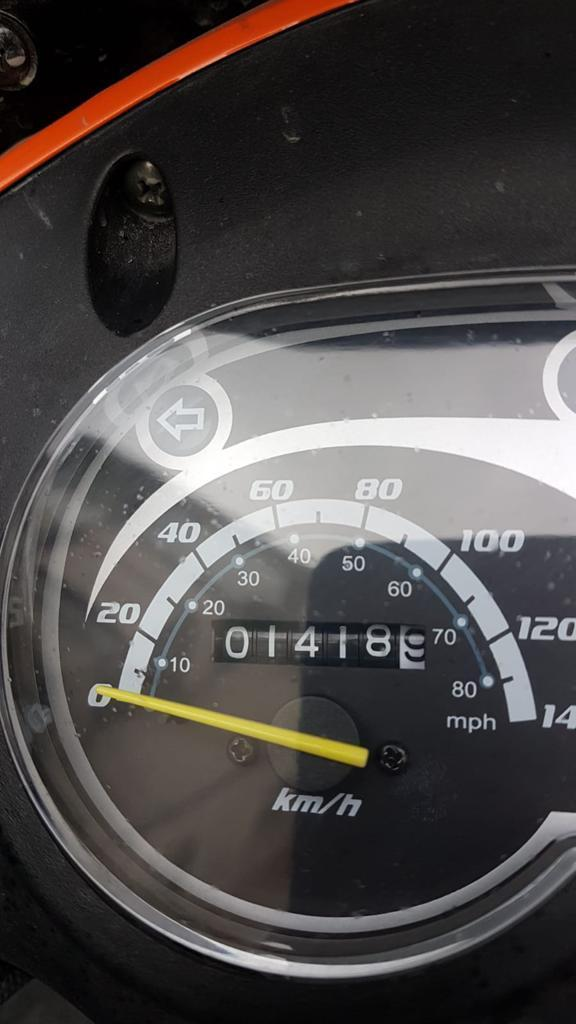0: (222, 623, 251, 660)
1: (261, 620, 281, 660), (332, 622, 352, 661)
4: (291, 622, 321, 660)
8: (362, 622, 394, 659)
9: (401, 625, 428, 664)
odometer: (208, 615, 429, 673)
